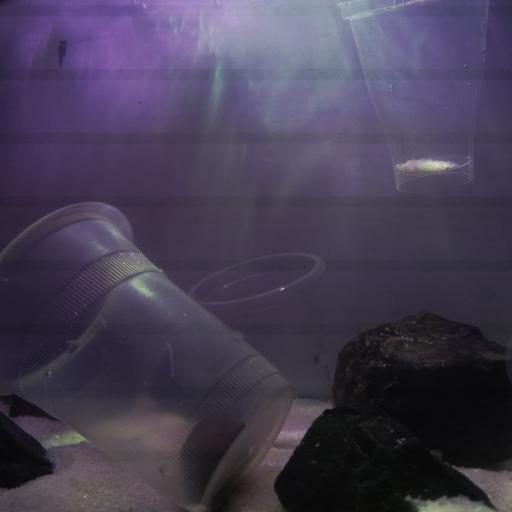plastic_cup: (0, 199, 294, 512), (338, 0, 494, 202), (184, 249, 336, 448)
